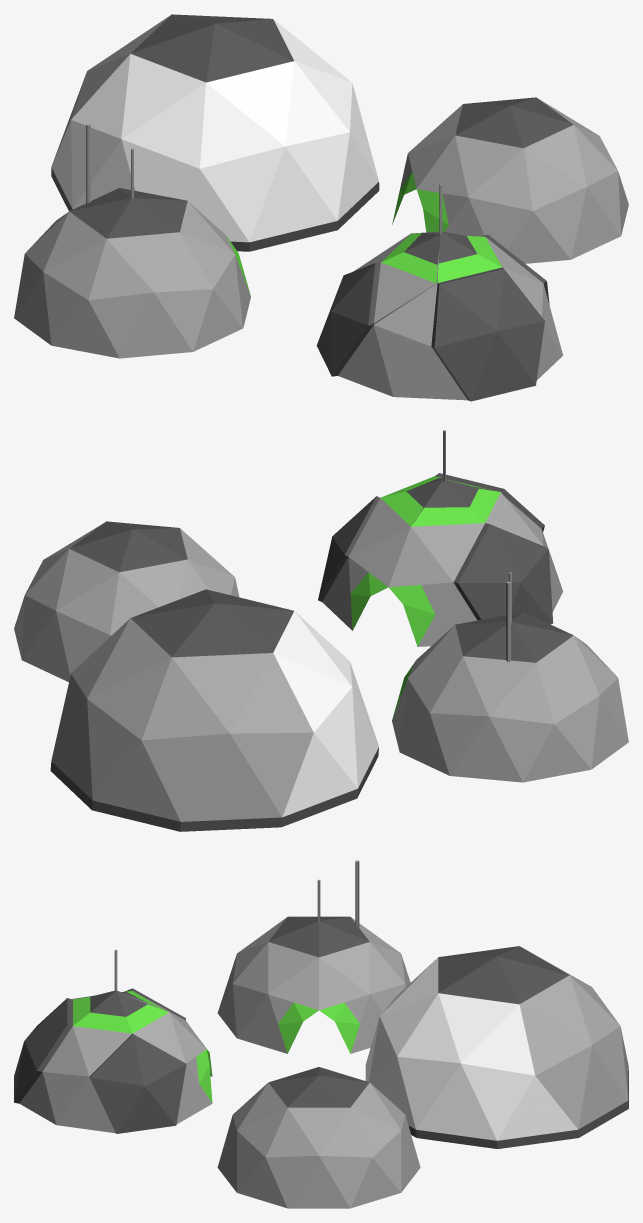
File: Buildings.fbx
3 renders of one model, top to bottom at view 1: azimuth 30°, elevation 25°; view 2: azimuth 150°, elevation 25°; view 3: azimuth 270°, elevation 25°, orthographic. The views are drawn at different scales.
Parts seen in each view (by area): view 1: Colonist Tents; view 2: Colonist Tents; view 3: Colonist Tents.
Part boxes in pixels (x1,y1,x2,y2): Colonist Tents: [14, 14, 628, 401]; Colonist Tents: [14, 430, 628, 831]; Colonist Tents: [14, 860, 628, 1208].
Size of the model in its own units: 550 by 156 by 606.
